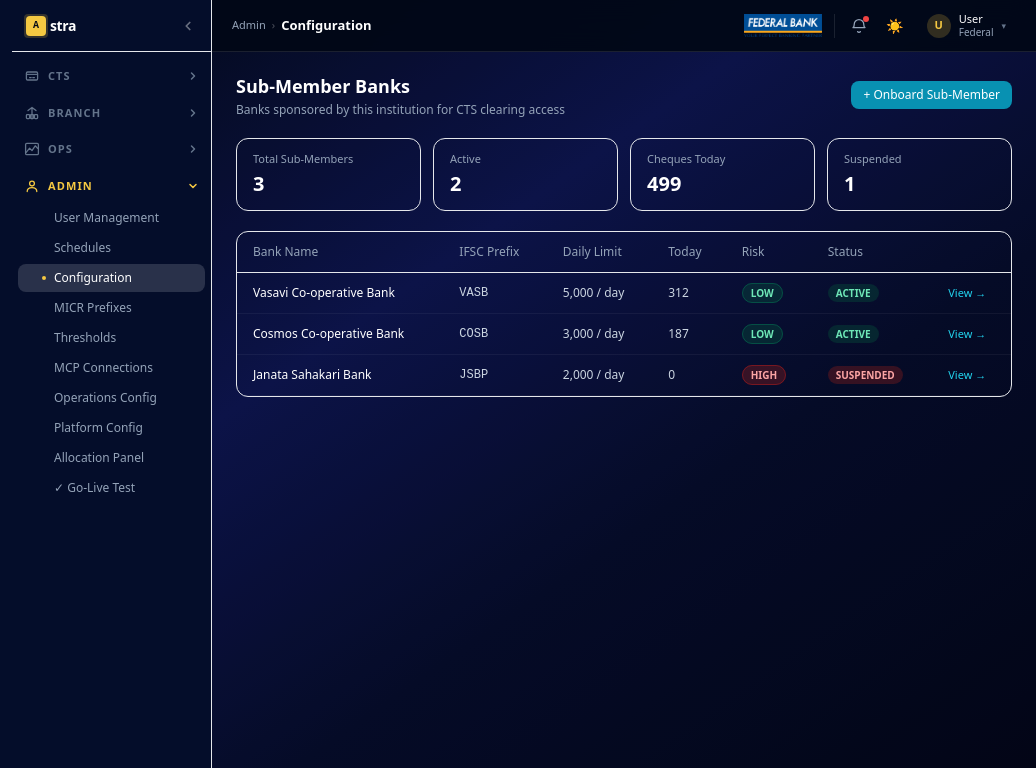
CTSSubMemberBanks › clicking View shows detail panel
Click the button "View →" in the row of "Vasavi Co-operative Bank": (967, 292) 948,284 -> 986,300
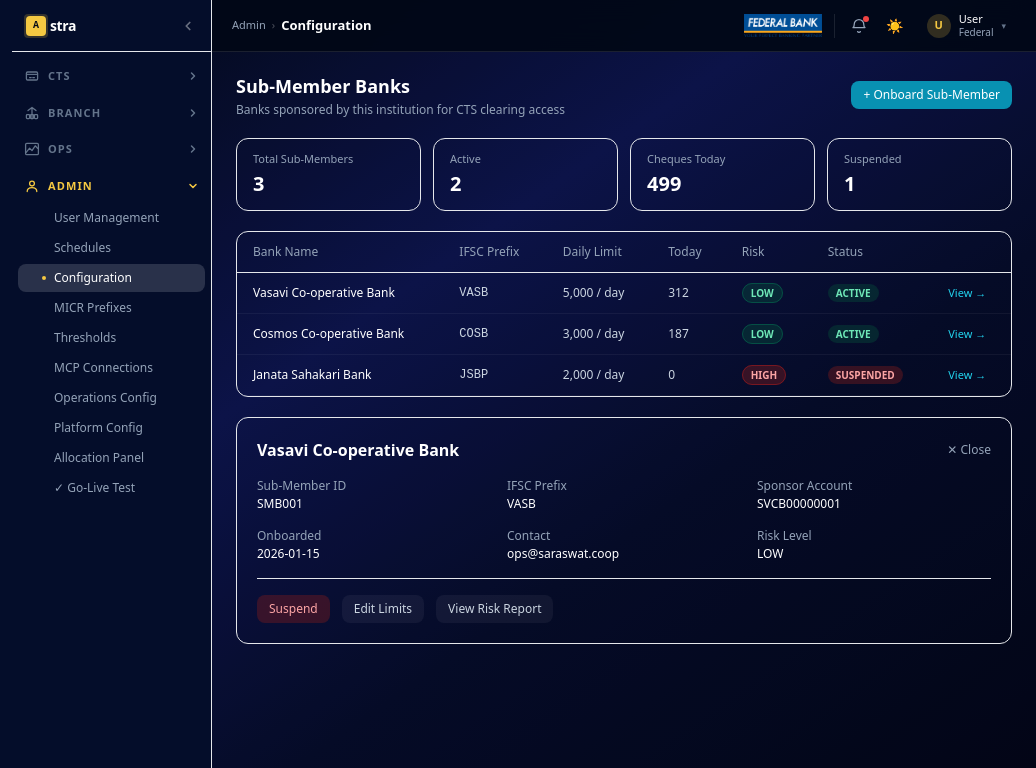
Now the text "Sub-Member ID" is shown, box 257,476 -> 346,494
Now the text "Sponsor Account" is shown, box 757,476 -> 852,494
